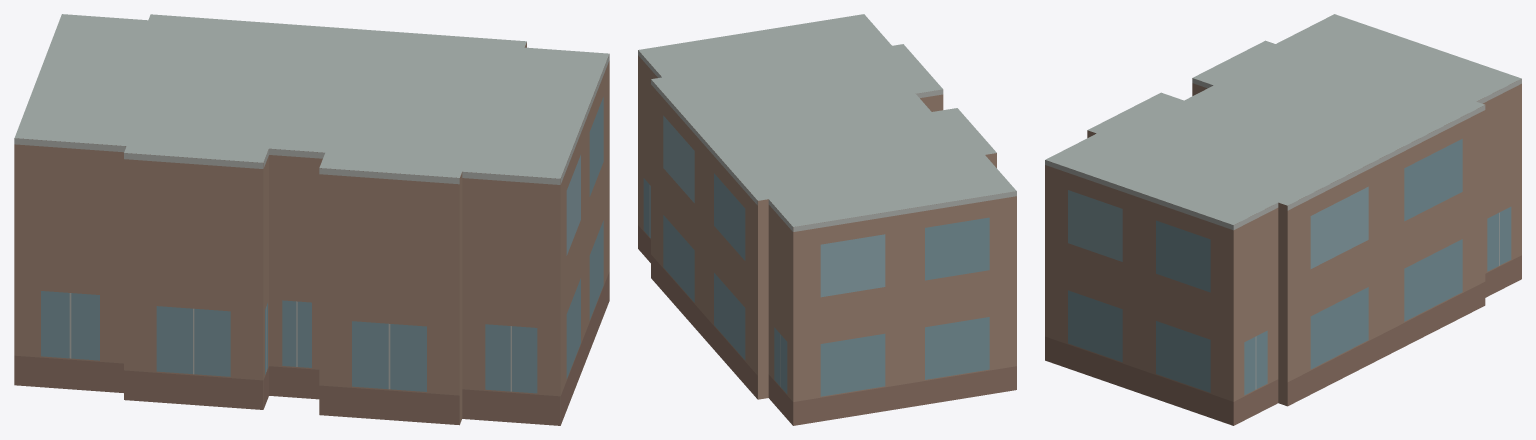
File: survey-upis-32985598.glb
3 views of the same model, side by side, from view 1: azimuth 30°, elevation 25°; view 2: azimuth 150°, elevation 25°; view 3: azimuth 270°, elevation 25° (orthographic). The views are drawn at different scales.
Visible parts, largest first — view 1: survey-upis-32985598.tmp; view 2: survey-upis-32985598.tmp; view 3: survey-upis-32985598.tmp.
Boxes of the visible parts, <box> form: survey-upis-32985598.tmp: <box>14,14,609,425</box>; survey-upis-32985598.tmp: <box>638,14,1016,425</box>; survey-upis-32985598.tmp: <box>1045,14,1521,425</box>.
Size of the model in its own units: 21.67 by 9.6 by 20.67.
